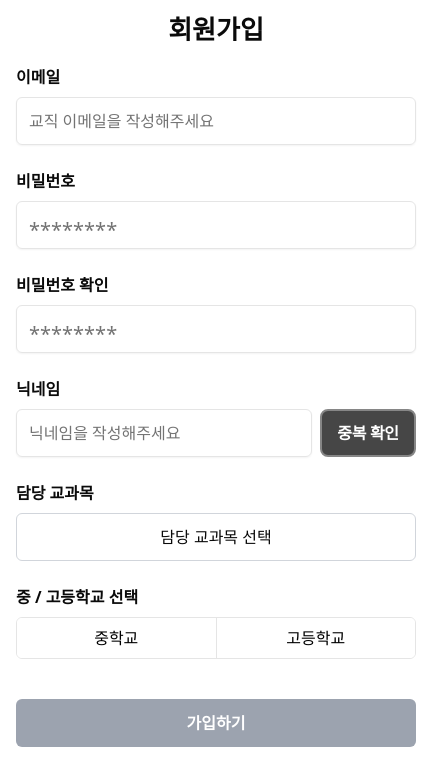
Scenario: signup 컴포넌트 단위 테스트 › 유효하지 않은 이메일 입력 시 에러 메시지가 표시되고, 이메일 input의 border가 빨간색으로 변한다.
Type "invalid-email" into the field labelled "이메일" at (216,121), box [16, 97, 416, 145]
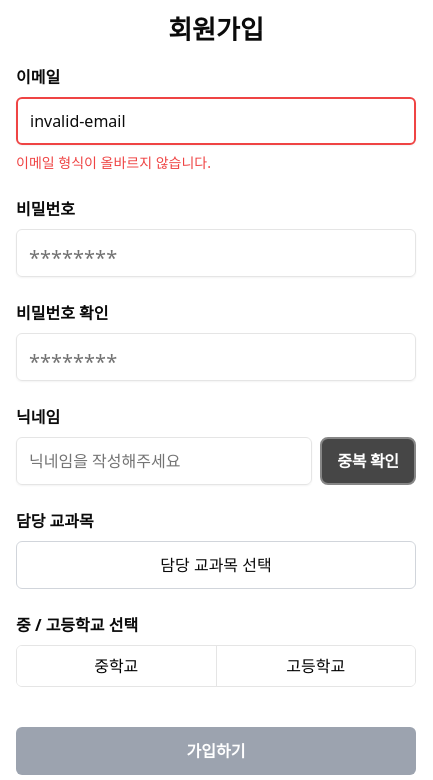
Expected: the text "이메일 형식이 올바르지 않습니다." is shown, [16, 153, 211, 172]
